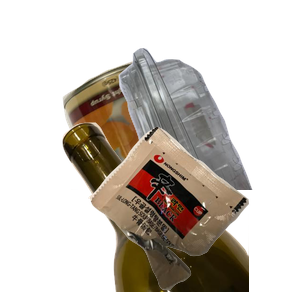glass: (60, 120, 300, 300)
metal: (60, 58, 300, 238)
plastic: (71, 45, 300, 225)
trash: (86, 124, 300, 300)
